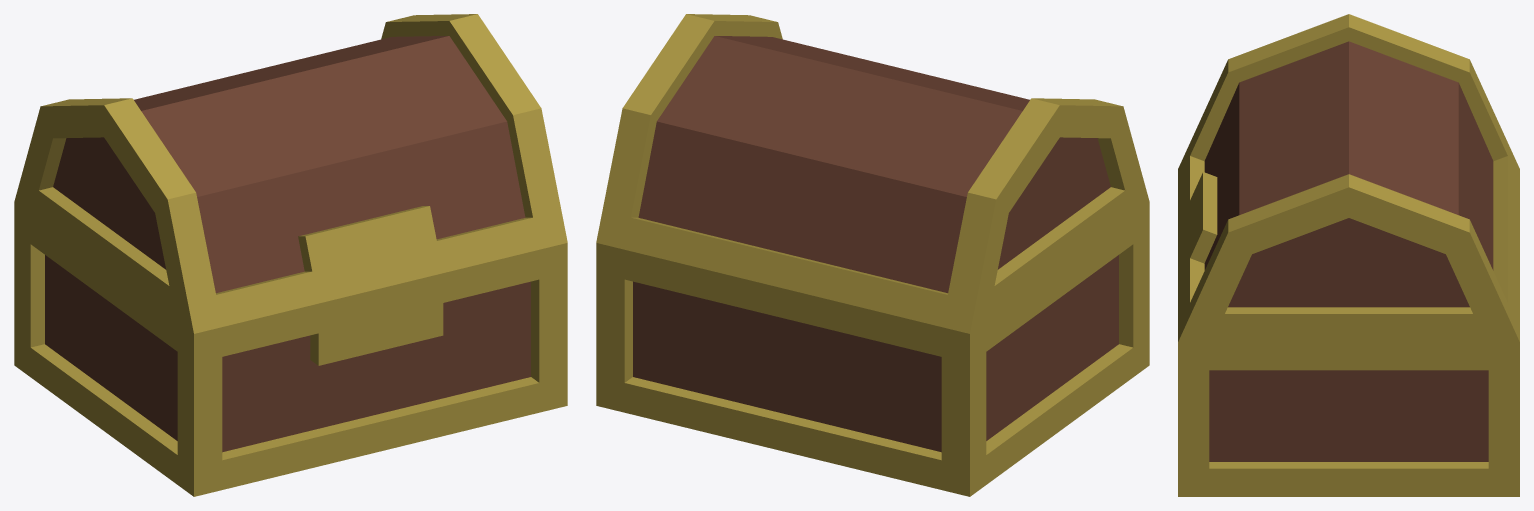
Rendered from TreasureChest.fbx.
The picture shows the model from 3 angles, left to right: view 1: azimuth 30°, elevation 25°; view 2: azimuth 150°, elevation 25°; view 3: azimuth 270°, elevation 25°; orthographic projection. The views are drawn at different scales.
Parts seen in each view (by area): view 1: Top, TreasureChest; view 2: Top, TreasureChest; view 3: Top, TreasureChest.
Boxes of the visible parts, x1=… form: Top: x1=14, y1=14, x2=567, y2=333; TreasureChest: x1=14, y1=203, x2=567, y2=496; Top: x1=596, y1=14, x2=1149, y2=333; TreasureChest: x1=596, y1=203, x2=1149, y2=496; Top: x1=1178, y1=14, x2=1519, y2=341; TreasureChest: x1=1178, y1=342, x2=1519, y2=496.
Size of the model in its own units: 120 by 100 by 100.
